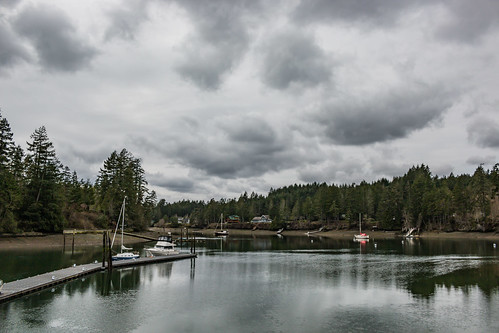river: (25, 239, 499, 333)
sky: (14, 1, 499, 168)
vegetation: (3, 135, 494, 239)
